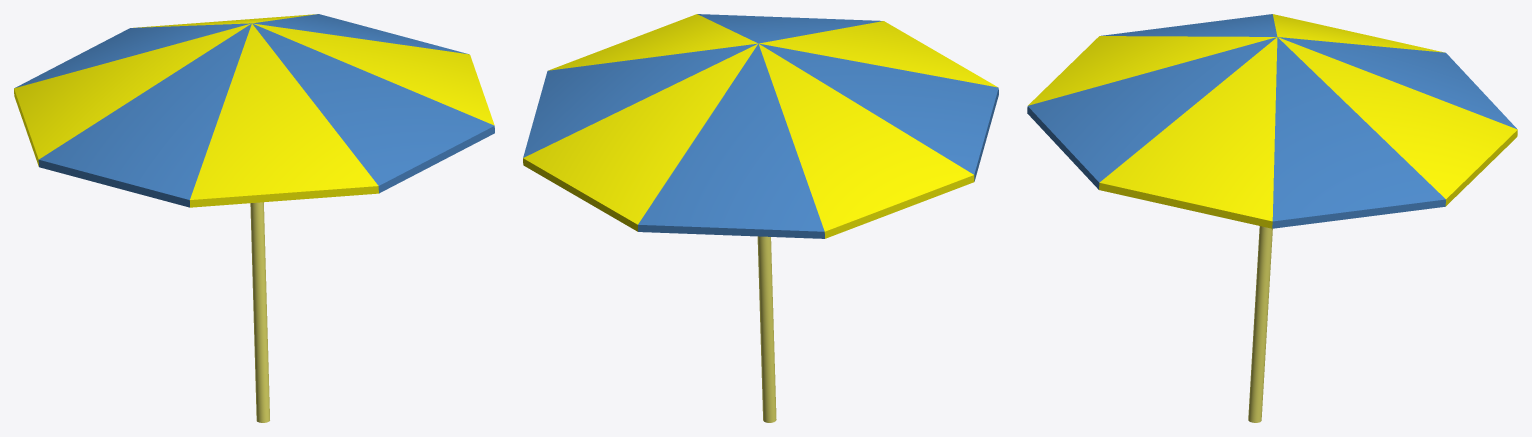
Rendered from suncobran2.fbx.
3 renders of one model, left to right at view 1: azimuth 30°, elevation 25°; view 2: azimuth 150°, elevation 25°; view 3: azimuth 270°, elevation 25°, orthographic.
Parts seen in each view (by area): view 1: Suncobran; view 2: Suncobran; view 3: Suncobran.
Boxes of the visible parts, x1,y1,x2,y2 form: Suncobran: (14,14,494,422); Suncobran: (523,14,998,422); Suncobran: (1027,14,1517,422).
Bounding box in the file's own units: 350 × 302 × 350.
